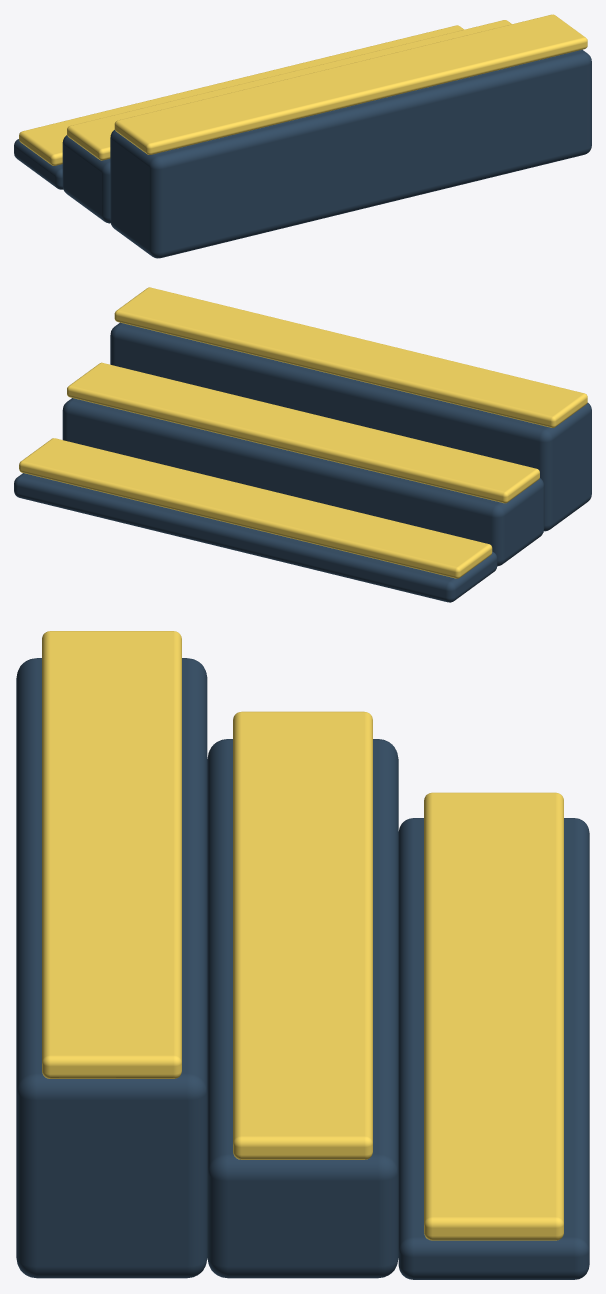
3 views of the same model, one above another, from view 1: azimuth 30°, elevation 25°; view 2: azimuth 150°, elevation 25°; view 3: azimuth 270°, elevation 25° (orthographic). The views are drawn at different scales.
Visible parts, largest first — view 1: party-obstacle-course-spectator-bleacher; view 2: party-obstacle-course-spectator-bleacher; view 3: party-obstacle-course-spectator-bleacher.
Part boxes in pixels (x1,y1,x2,y2): party-obstacle-course-spectator-bleacher: [14, 14, 591, 258]; party-obstacle-course-spectator-bleacher: [14, 287, 591, 602]; party-obstacle-course-spectator-bleacher: [16, 631, 589, 1279].
Size of the model in its own units: 4 by 0.9799 by 2.25.
